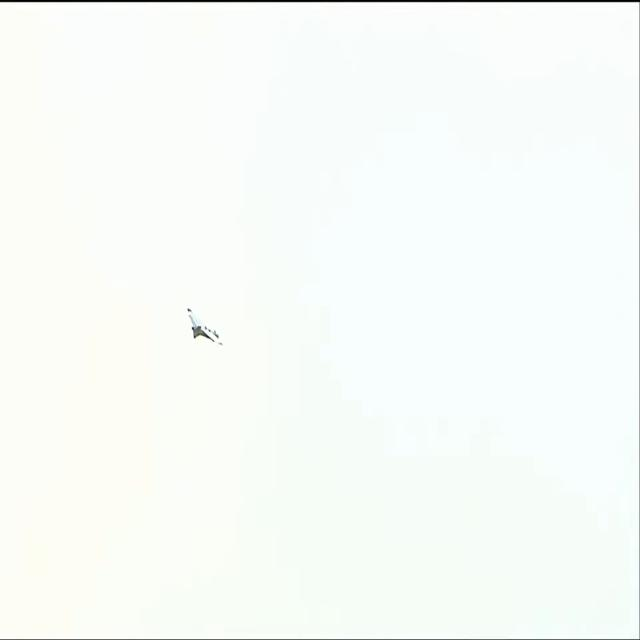iha: (186, 304, 224, 346)
